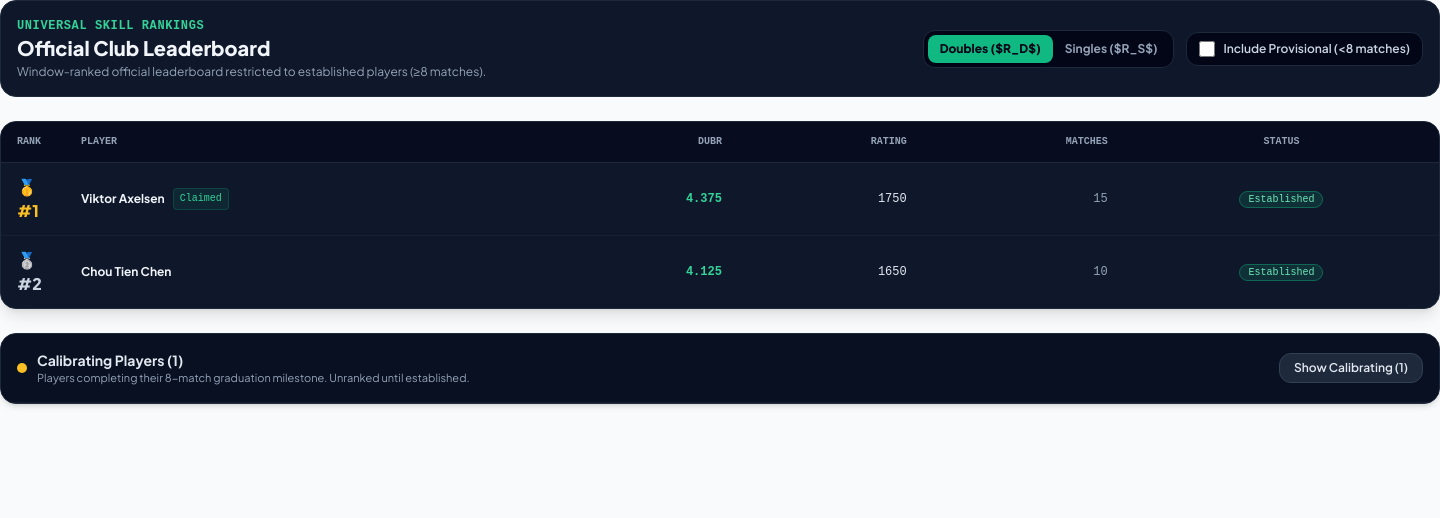
it: ClubLeaderboardView › displays a collapsible Calibrating roster section showing player progress (e.g. 2/8 matches) without ranking
The width and height of the screenshot is (1440, 518).
Expected: the element named "Calibrating Roster" is shown, [0,333,1439,404]
# Toggle open the calibrating section via expand button
Click the button "Show Calibrating (1)". click: x=1351, y=368
box: [1279,353,1423,383]
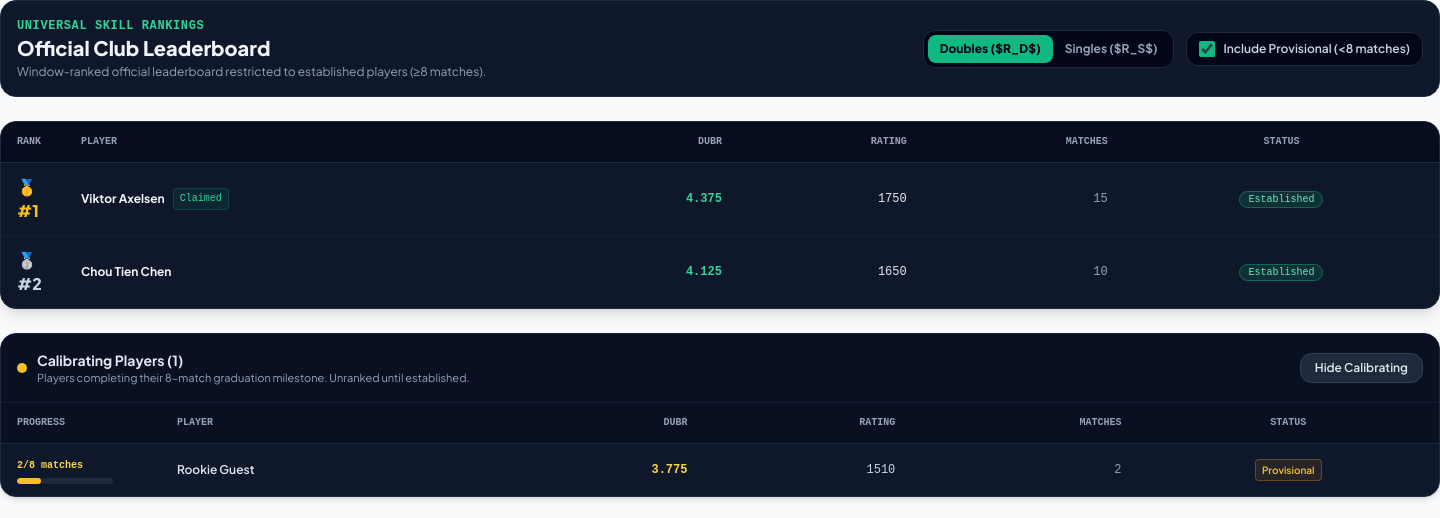
Expected: the text "Rookie Guest" is shown, [177,462,254,478]
Expected: the text "2/8 matches" is shown, [17,460,83,471]
# Collapse it back
Click the button "Hide Calibrating". click: x=1361, y=368
box: [1300,353,1423,383]
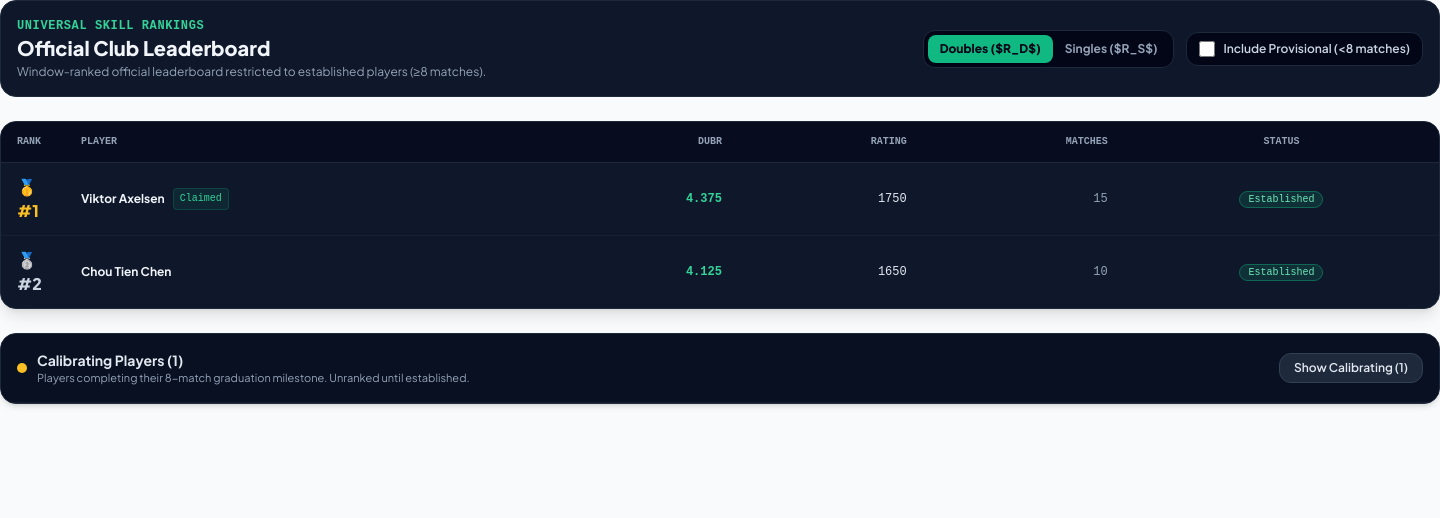
Expected: the text "Rookie Guest" is gone
